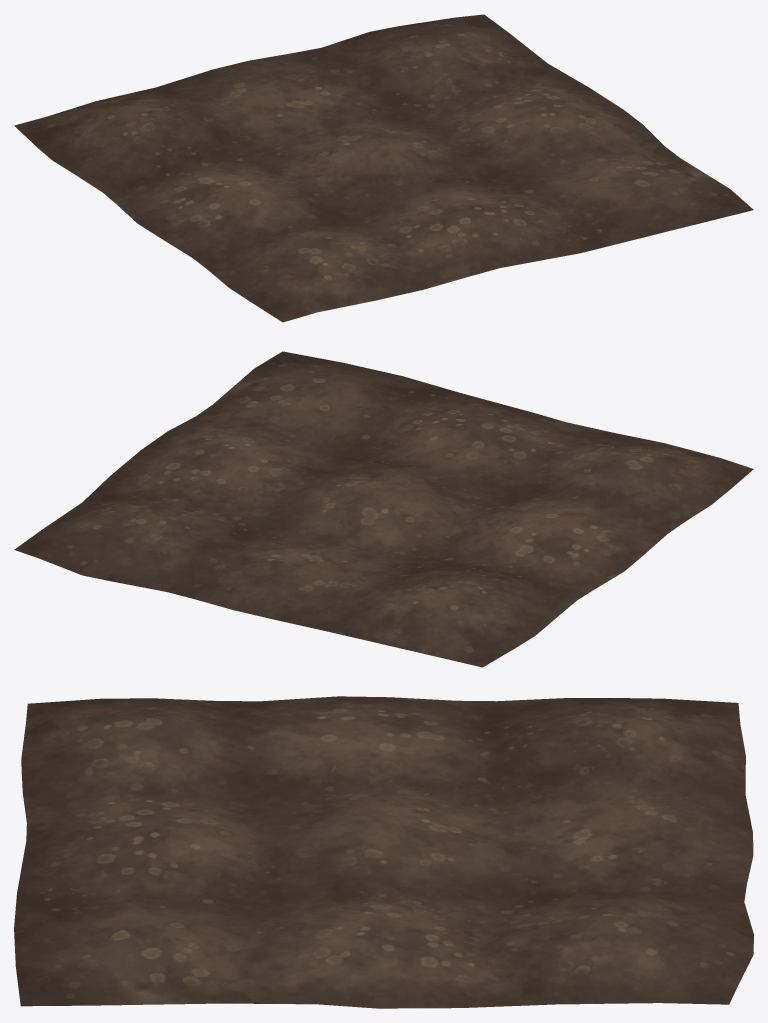
Rendered from Garden.fbx.
The picture shows the model from 3 angles, top to bottom: view 1: azimuth 30°, elevation 25°; view 2: azimuth 150°, elevation 25°; view 3: azimuth 270°, elevation 25°; orthographic projection. The views are drawn at different scales.
Visible parts, largest first — view 1: garden; view 2: garden; view 3: garden.
Part boxes in pixels (box(x1,y1,x2,y2)): garden: box(14, 14, 753, 322); garden: box(14, 351, 753, 667); garden: box(14, 696, 753, 1008).
Size of the model in its own units: 211 by 10.91 by 212.
Materials: 1 (1 with a texture image).
